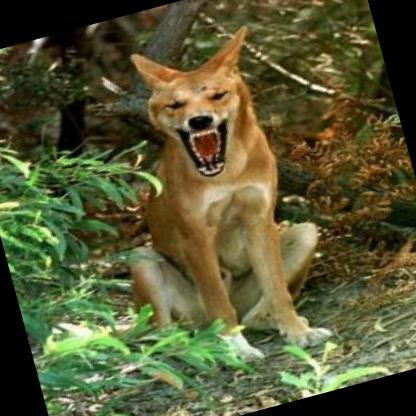dingo: (71, 14, 348, 386)
